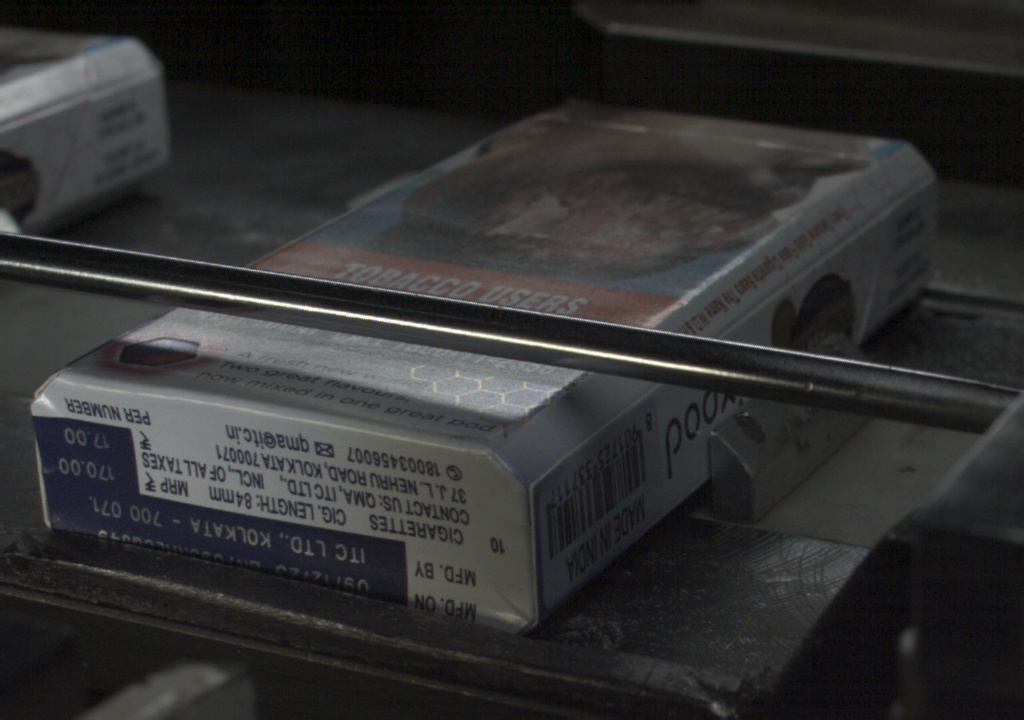g_label: (41, 494, 405, 603)
g_lmiter: (719, 268, 810, 335), (810, 209, 882, 267), (590, 386, 649, 434), (528, 439, 587, 486)
g_miter: (890, 172, 933, 211)
ng_bottom: (30, 384, 531, 634)
price: (38, 423, 134, 491)
